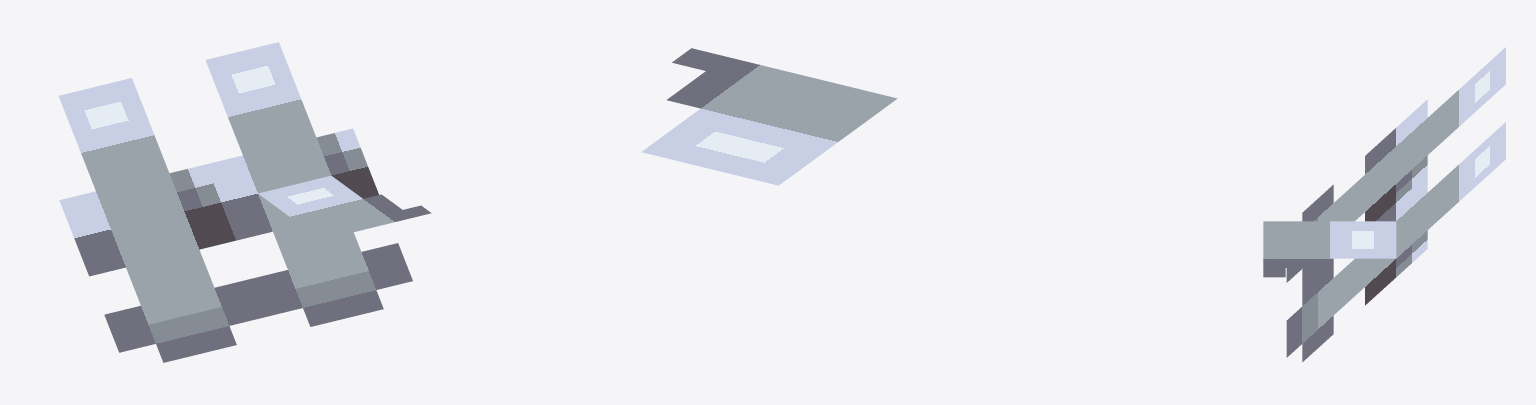
The picture shows the model from 3 angles, left to right: view 1: azimuth 30°, elevation 25°; view 2: azimuth 150°, elevation 25°; view 3: azimuth 270°, elevation 25°; orthographic projection. The views are drawn at different scales.
Size of the model in its own units: 1 by 0.707 by 0.7285.
Materials: 1 (1 with a texture image).
